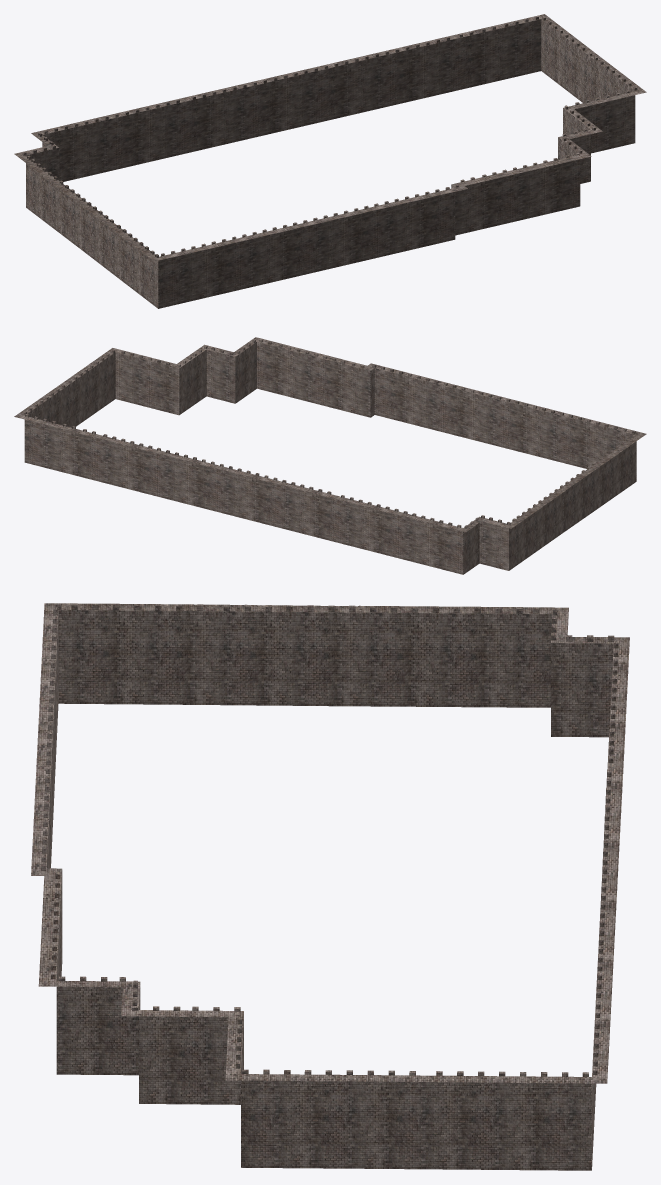
The model's file is cheng.obj.
3 views of the same model, one above another, from view 1: azimuth 30°, elevation 25°; view 2: azimuth 150°, elevation 25°; view 3: azimuth 270°, elevation 25° (orthographic). The views are drawn at different scales.
Parts seen in each view (by area): view 1: cheng; view 2: cheng; view 3: cheng.
Part boxes in pixels (box(x1,y1,x2,y2)): cheng: box(14, 14, 646, 308); cheng: box(14, 337, 646, 574); cheng: box(31, 603, 629, 1170).
Bounding box in the file's own units: 5366 × 513 × 2827.
